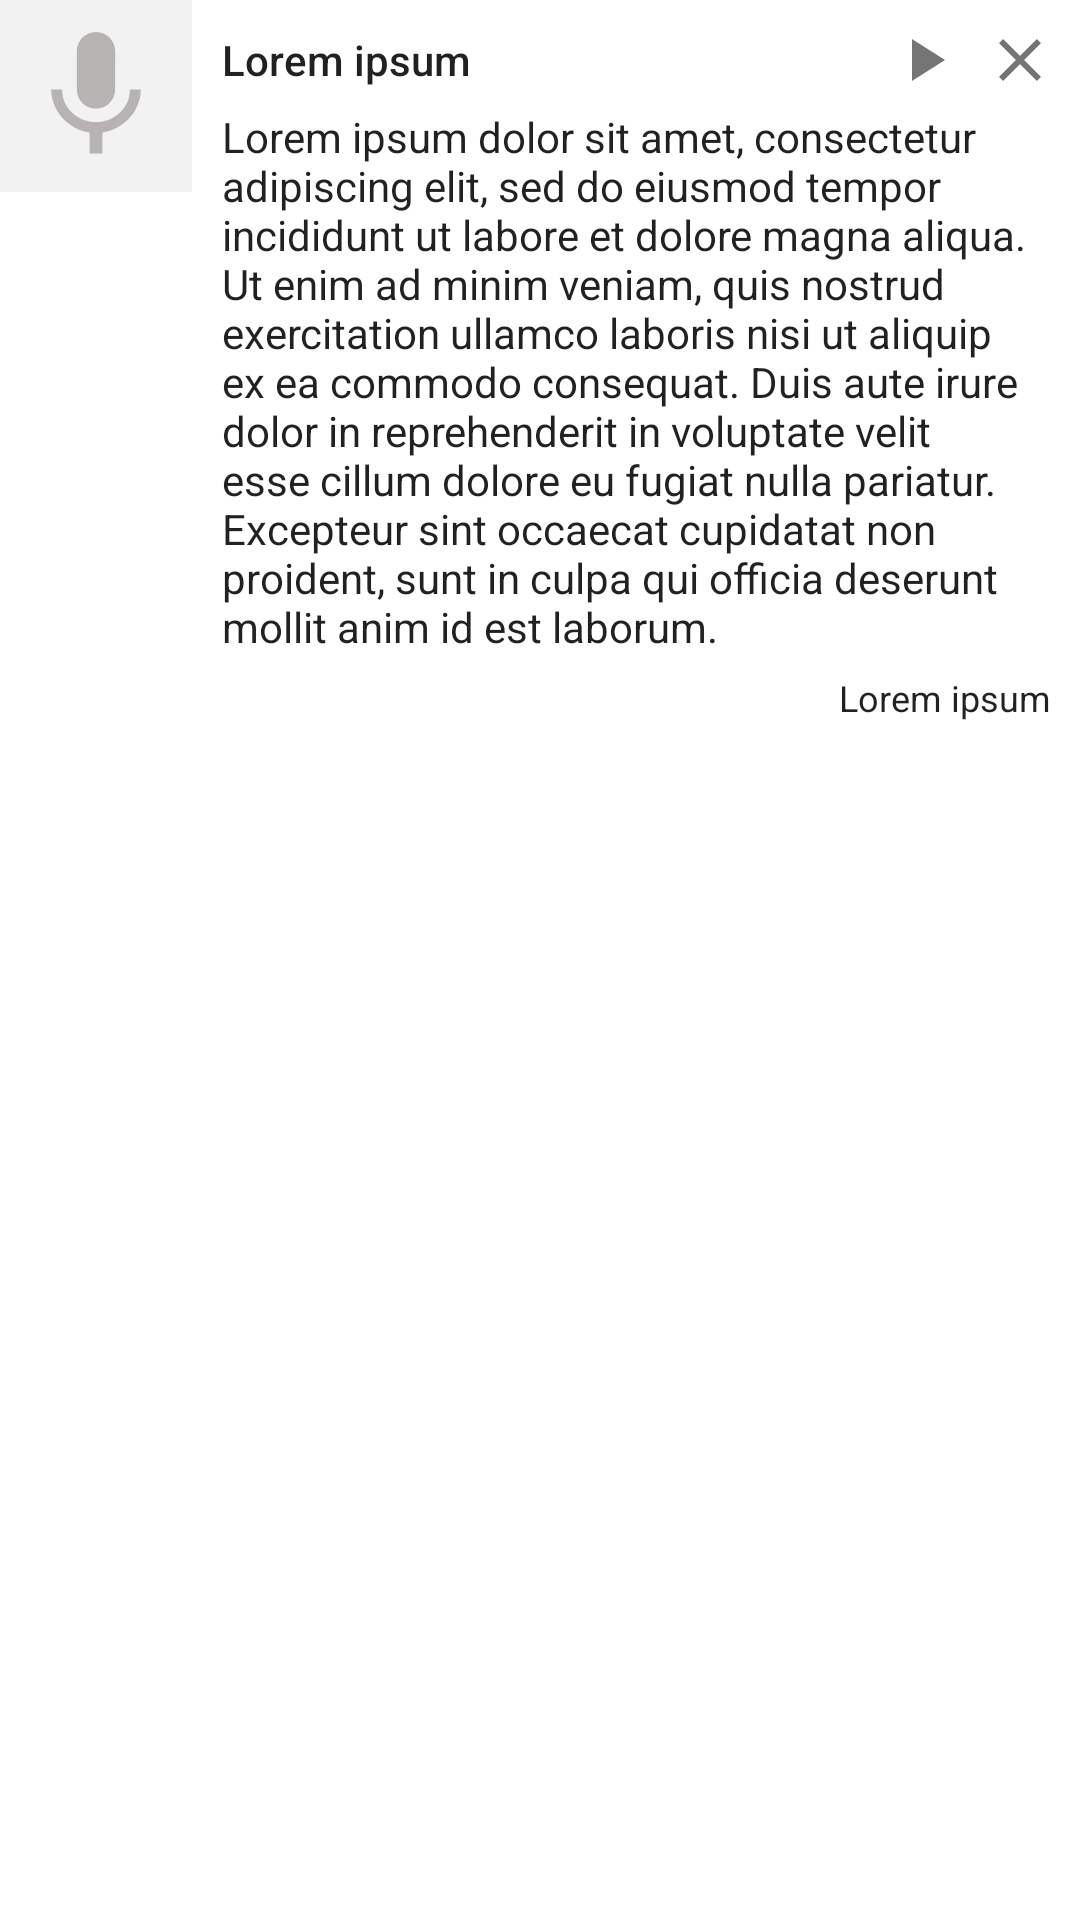

Icon bounding boxes for this 1080x1920 phone screenshot, format (x1, y1, x2, y2):
mic: (0, 0, 192, 192)
